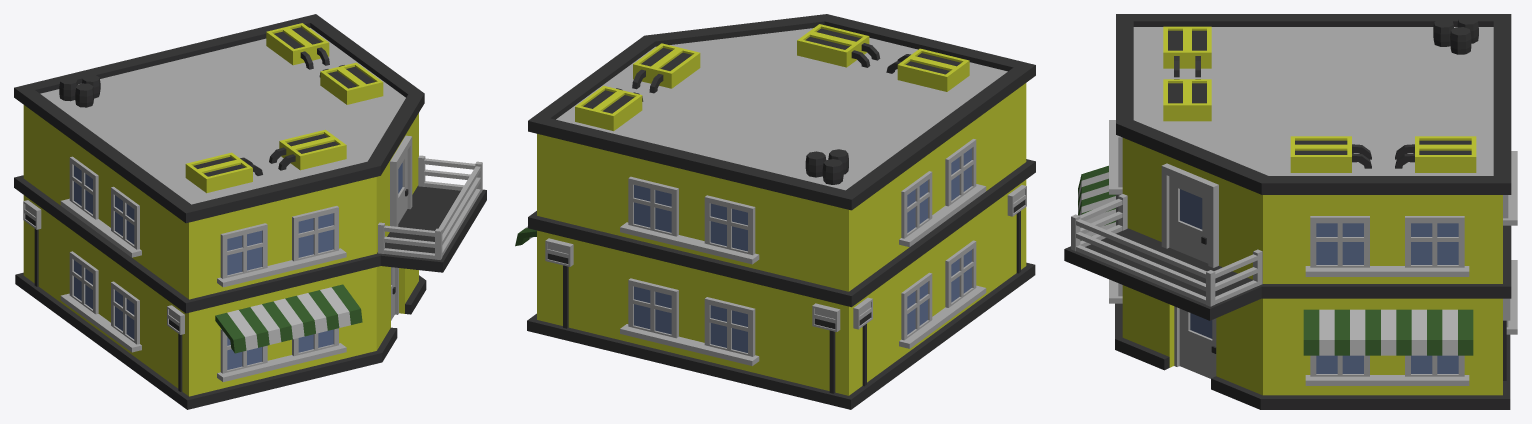
Rendered from Building7_2.fbx.
The picture shows the model from 3 angles, left to right: view 1: azimuth 30°, elevation 25°; view 2: azimuth 150°, elevation 25°; view 3: azimuth 270°, elevation 25°; orthographic projection. The views are drawn at different scales.
Visible parts, largest first — view 1: Building7_2; view 2: Building7_2; view 3: Building7_2.
Part boxes in pixels (<box>): Building7_2: <box>14,14,486,409</box>; Building7_2: <box>515,14,1035,409</box>; Building7_2: <box>1064,14,1517,409</box>.
Size of the model in its own units: 591 by 341 by 584.
